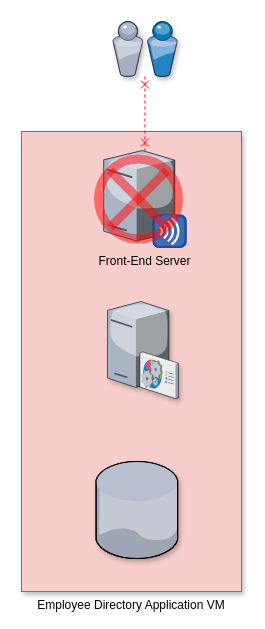
The diagram is 265 pixels wide and 629 high, and some of its shapes have lost their labels. Here are the shapes that lost their labels. From the top down, the centre of each, then its label:
At pixel 143 351: "Back-end Server".
At pixel 138 511: "Database".
